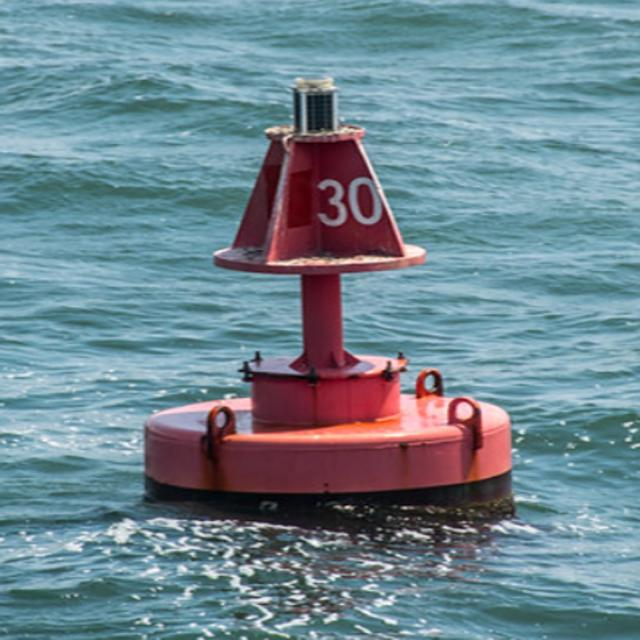buoy: (128, 71, 519, 505)
